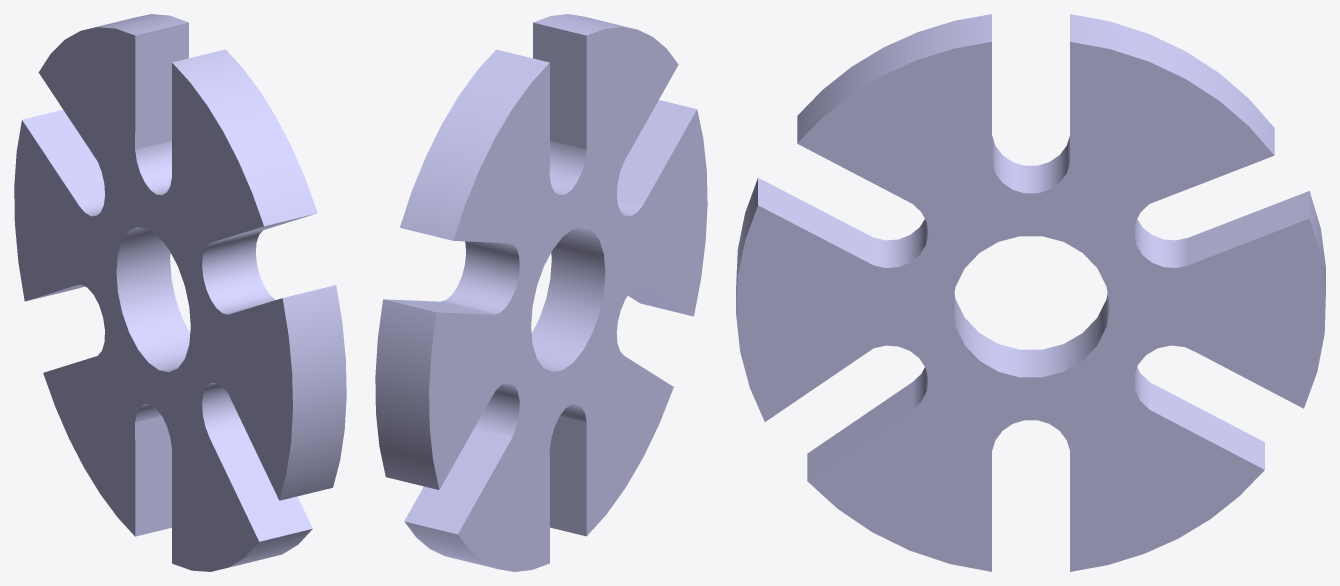
File: 13 Plantilla G.fbx
3 renders of one model, left to right at view 1: azimuth 30°, elevation 25°; view 2: azimuth 150°, elevation 25°; view 3: azimuth 270°, elevation 25°, orthographic. The views are drawn at different scales.
Parts seen in each view (by area): view 1: PartBody; view 2: PartBody; view 3: PartBody.
Part boxes in pixels (bbox=[...]): PartBody: bbox=[14, 14, 346, 571]; PartBody: bbox=[375, 14, 707, 571]; PartBody: bbox=[736, 14, 1325, 571].
Size of the model in its own units: 0.7874 by 7.02 by 7.08.
